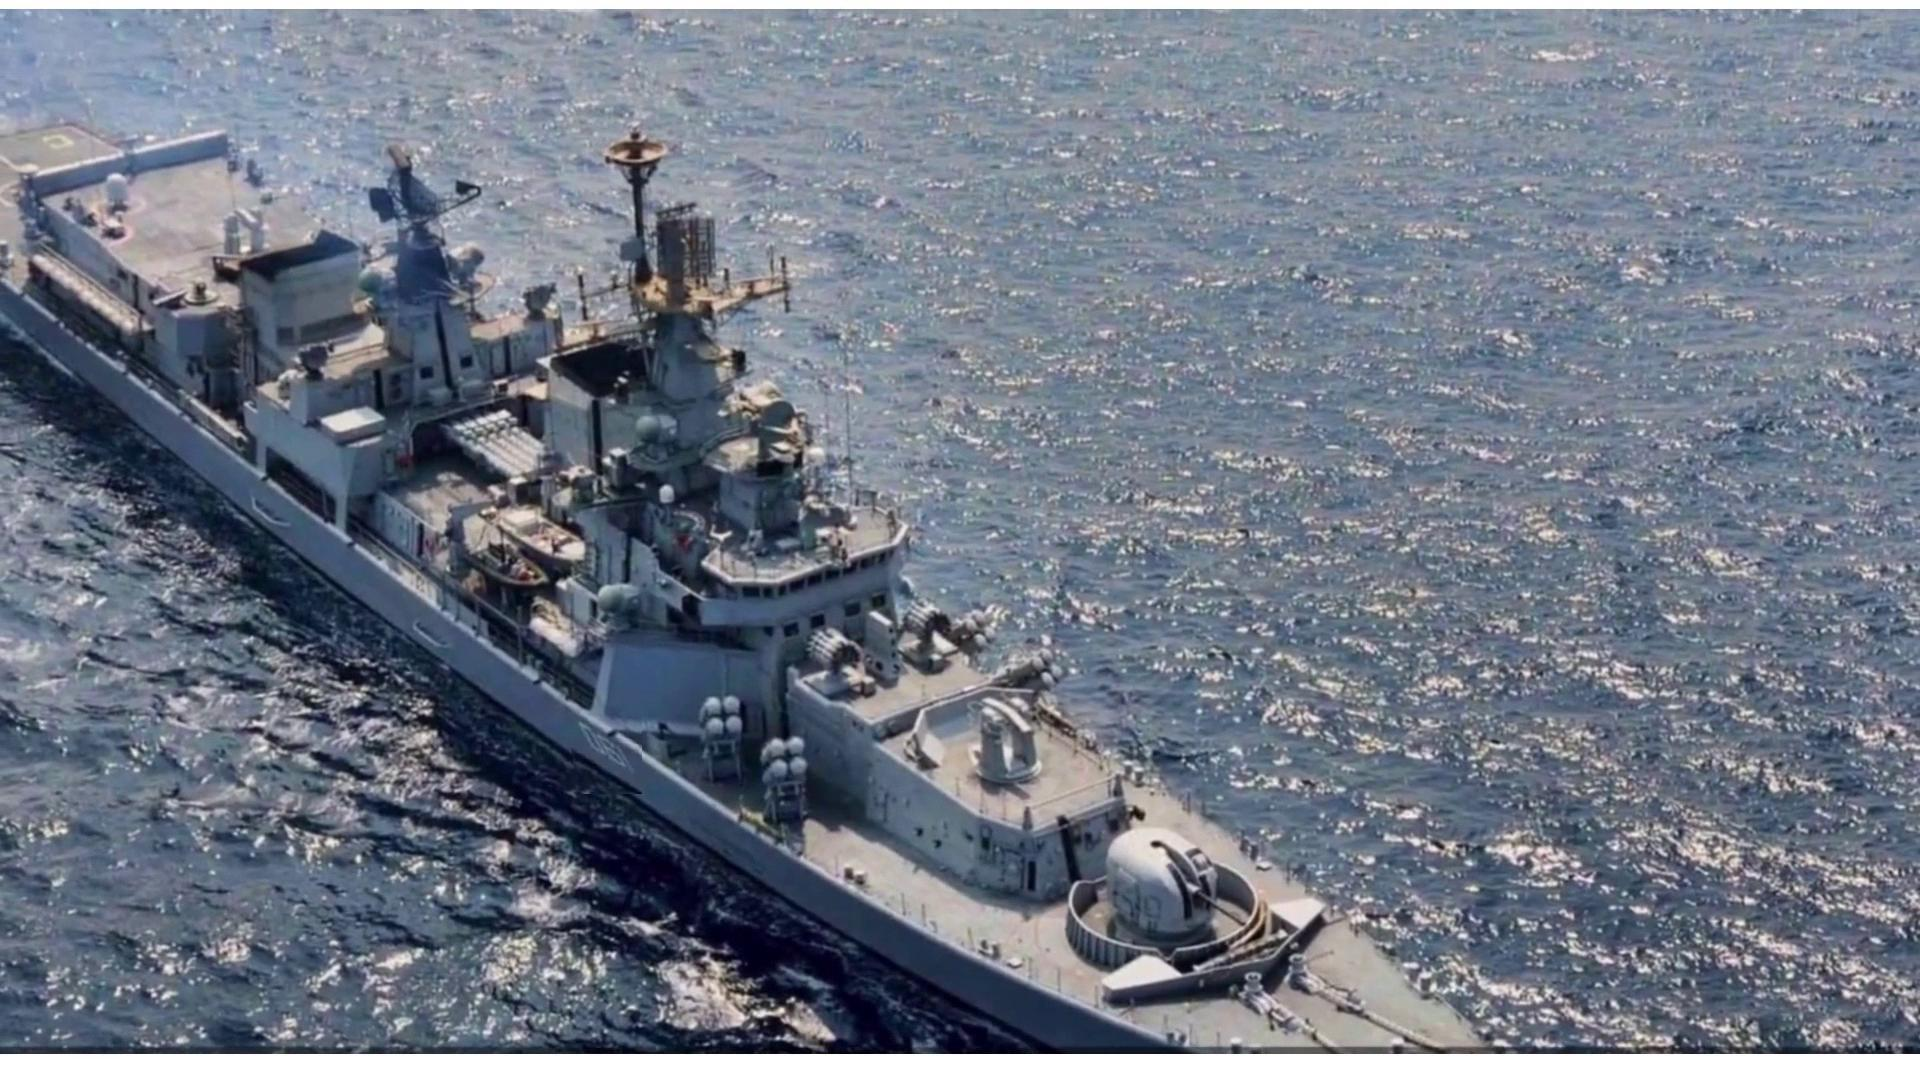OCR: (564, 712, 642, 794)
